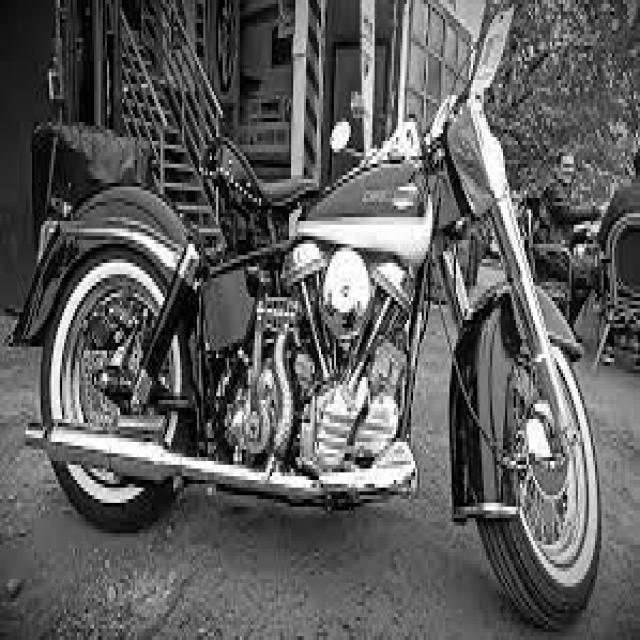MOTORCYCLE: (23, 96, 606, 638)
